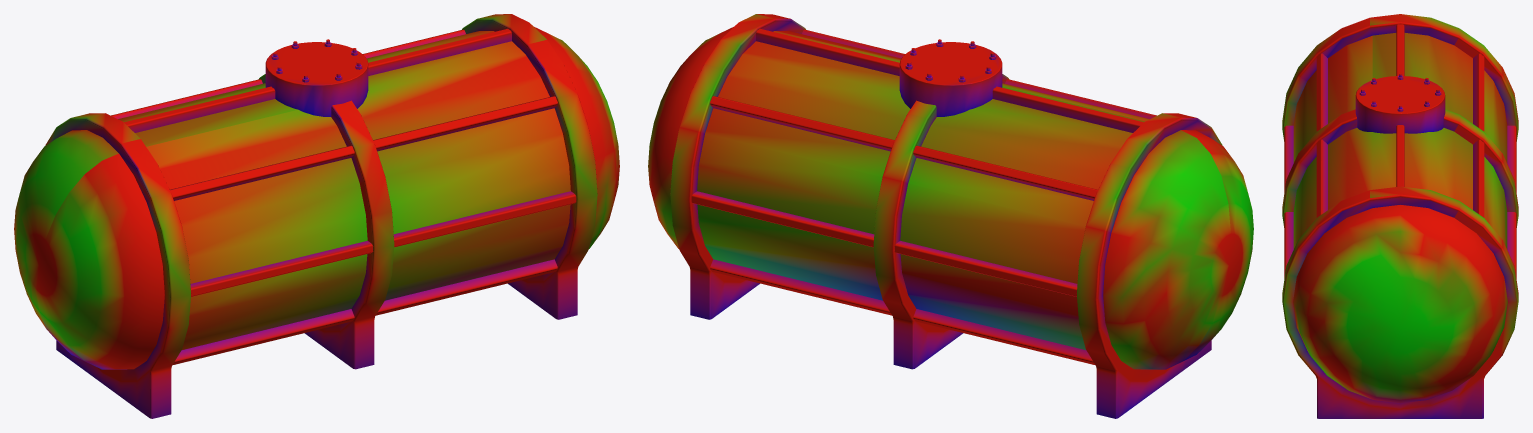
Rendered from LargeMetalPropA.fbx.
3 renders of one model, left to right at view 1: azimuth 30°, elevation 25°; view 2: azimuth 150°, elevation 25°; view 3: azimuth 270°, elevation 25°, orthographic. The views are drawn at different scales.
Parts seen in each view (by area): view 1: T4.000, Sphere.002; view 2: T4.000, Sphere.002; view 3: T4.000, Sphere.002.
Part boxes in pixels (left/top/right/bottom): T4.000: left=14, top=27, right=619, bottom=369; Sphere.002: left=45, top=14, right=597, bottom=418; T4.000: left=648, top=27, right=1253, bottom=369; Sphere.002: left=670, top=14, right=1222, bottom=418; T4.000: left=1293, top=33, right=1507, bottom=403; Sphere.002: left=1282, top=14, right=1518, bottom=418.
Bounding box in the file's own units: 650 × 306 × 275.
